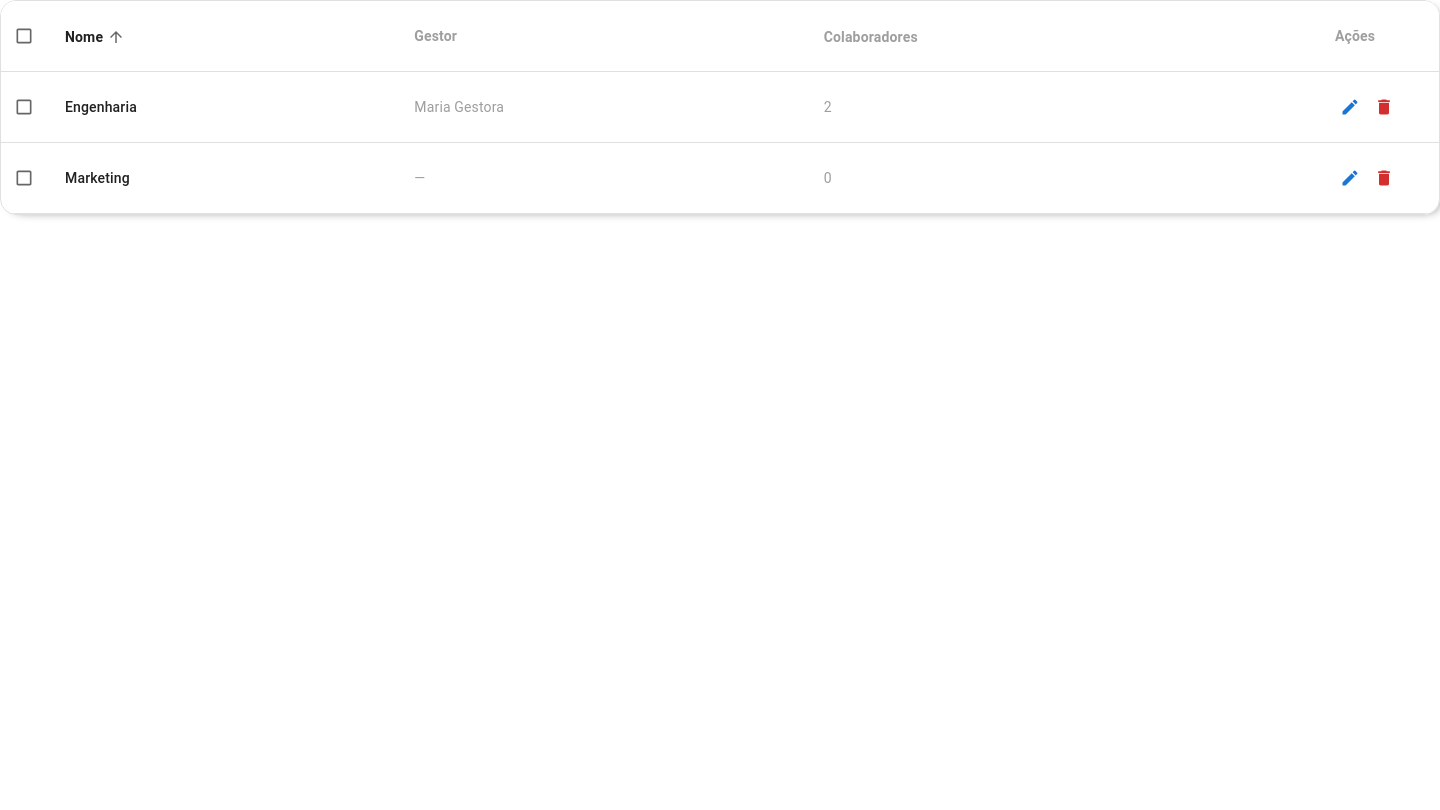
Test: DepartmentsList › opens delete confirmation dialog when Delete is clicked
This screenshot has width=1440, height=810.
Click the button named "excluir engenharia" at point(1384, 107), box [1369,92,1399,122]
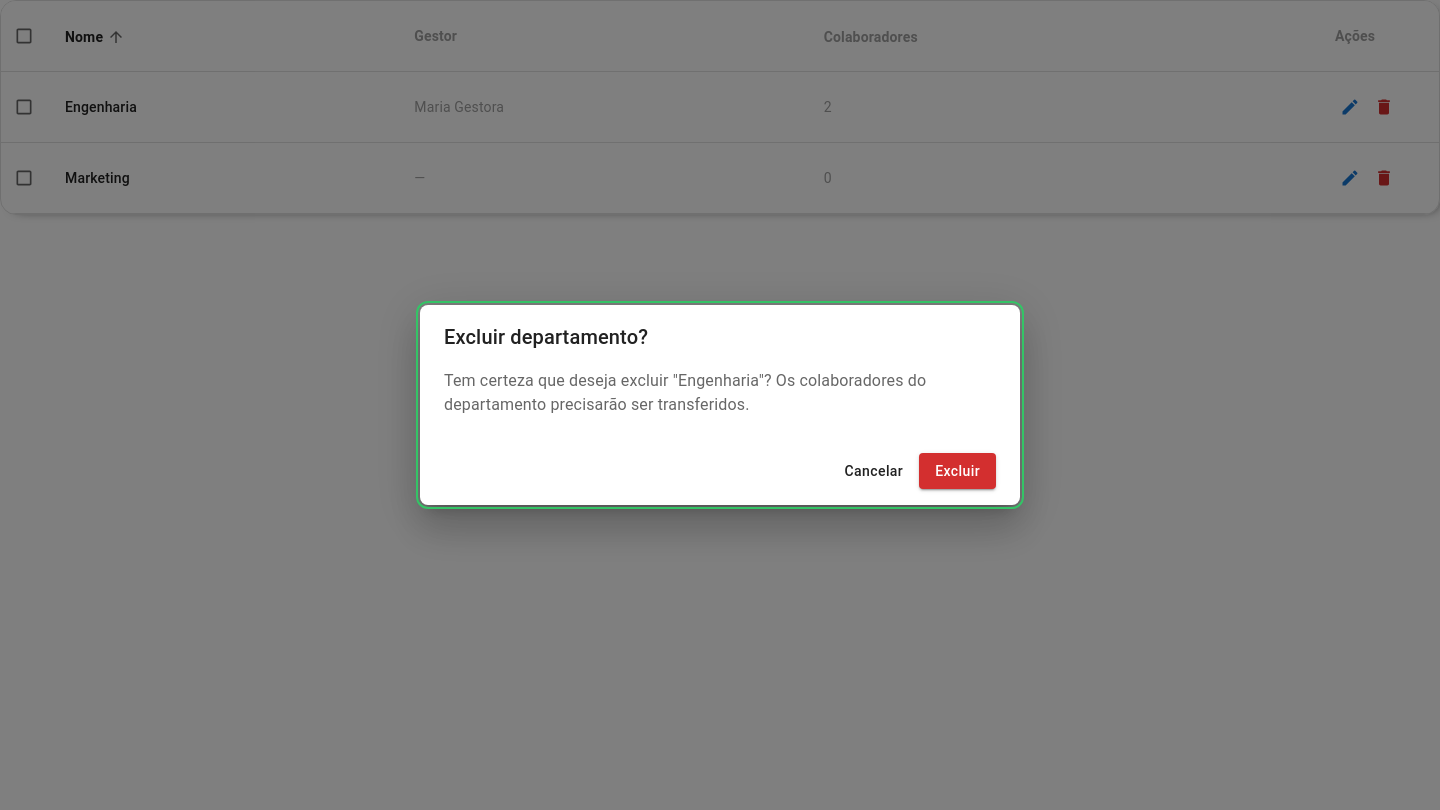
Now the dialog "Excluir departamento?" is shown, box [420,305,1020,505]
Now the text "Tem certeza que deseja excluir \"Engenharia\"?" is shown, box [444,371,926,414]
